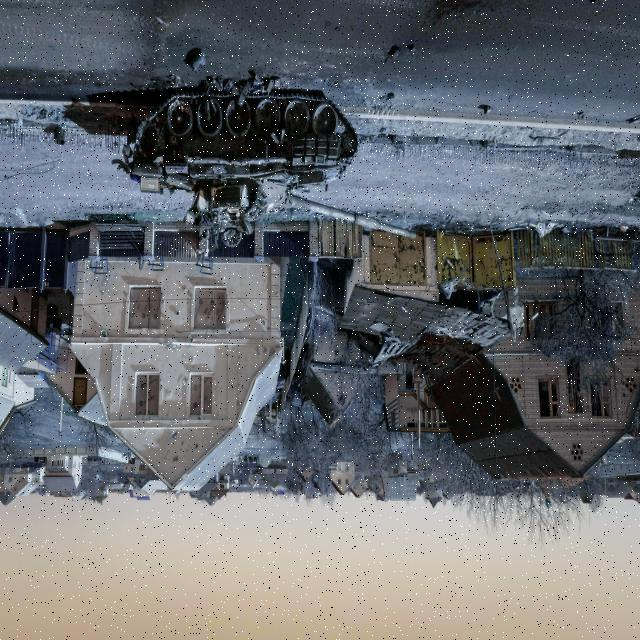MIL_MBT: (121, 84, 417, 250)
